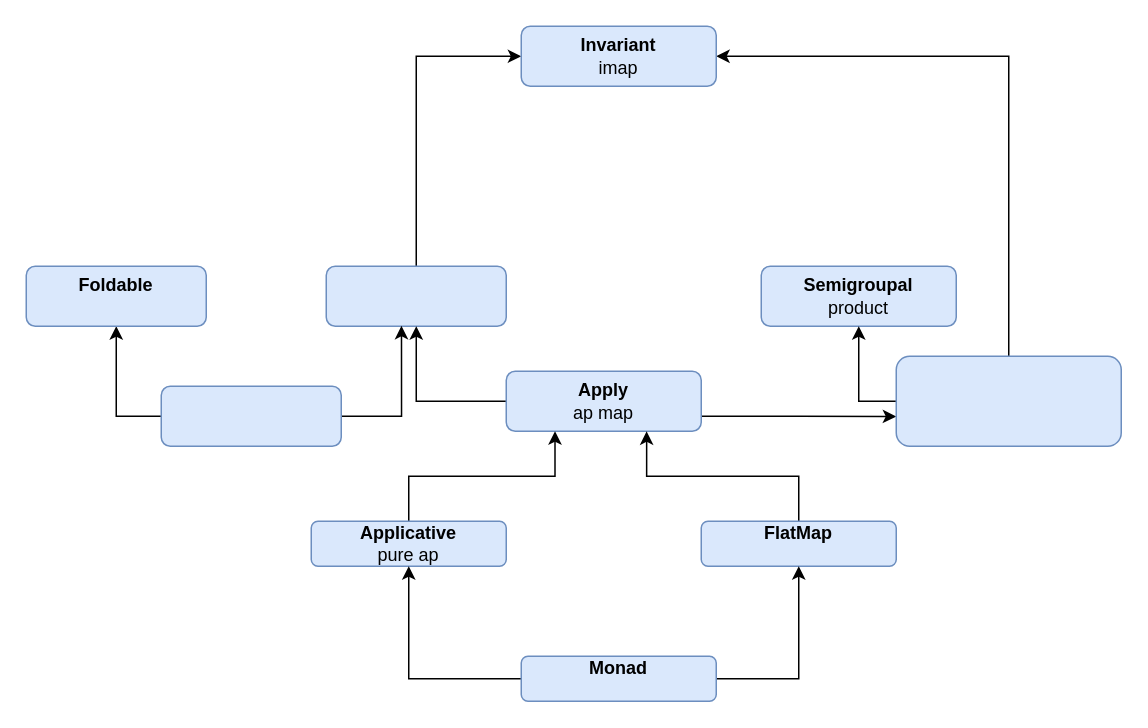
Some shapes in this 1148 by 728 pixel diagram are drawn without their labels. Each missing label, with the centre of its shape:
"Functor map lift" goes at (415,295).
"Invariant Semigroupal tupleX" goes at (1008,400).
"Traverse" goes at (250,415).
